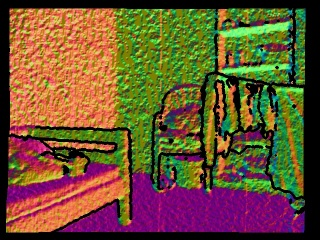station: (41, 149, 91, 175)
